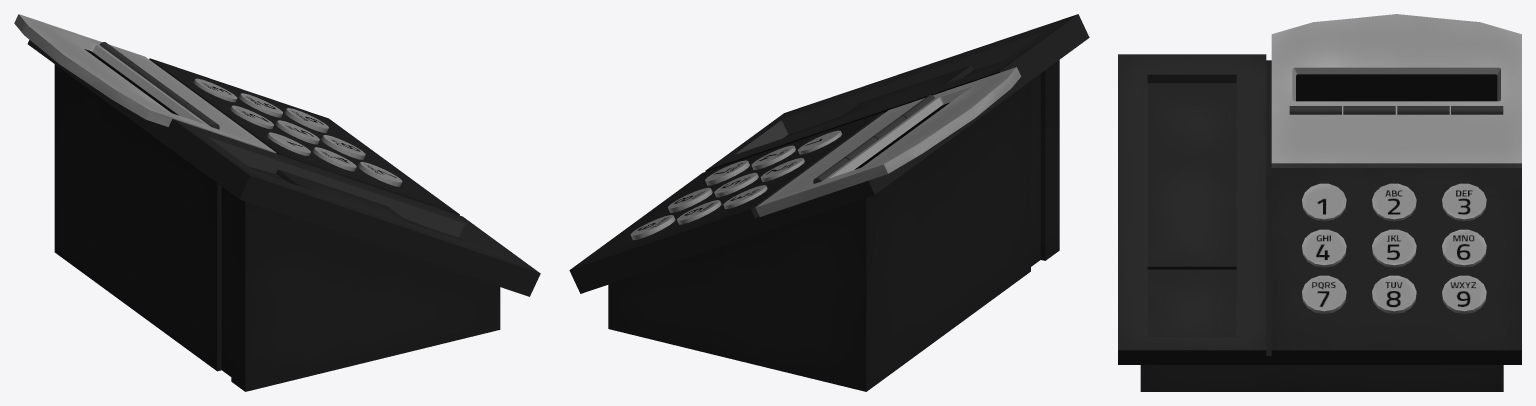
File: Telephone Base.fbx
3 views of the same model, side by side, from view 1: azimuth 30°, elevation 25°; view 2: azimuth 150°, elevation 25°; view 3: azimuth 270°, elevation 25° (orthographic). The views are drawn at different scales.
Visible parts, largest first — view 1: polySurface6; view 2: polySurface6; view 3: polySurface6.
Boxes of the visible parts, box(x1,y1,x2,y2) form: polySurface6: box(14, 14, 540, 391); polySurface6: box(569, 14, 1089, 391); polySurface6: box(1118, 14, 1521, 391).
Size of the model in its own units: 7.38 by 5.26 by 8.1.
